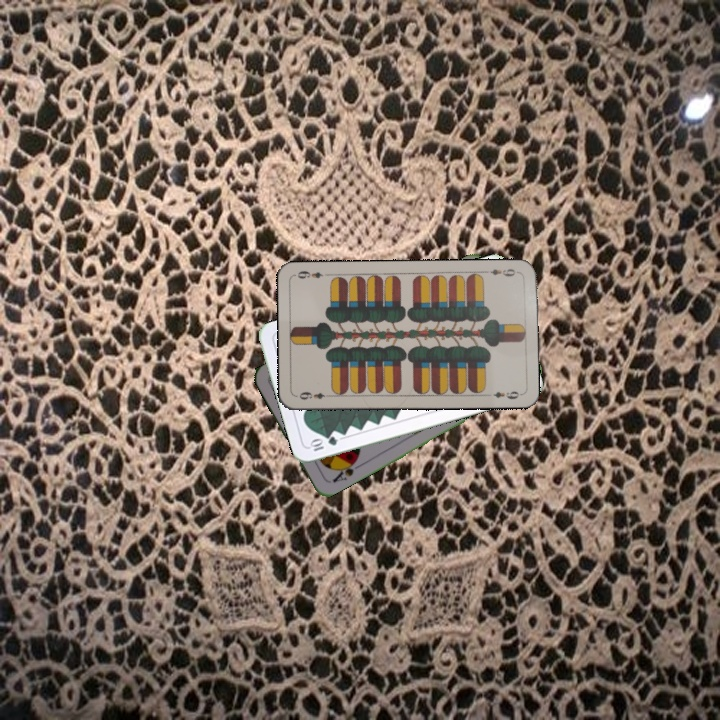E9: (293, 388, 334, 402), (481, 265, 521, 279)
G10: (306, 432, 340, 454)
SA: (328, 456, 362, 485)
